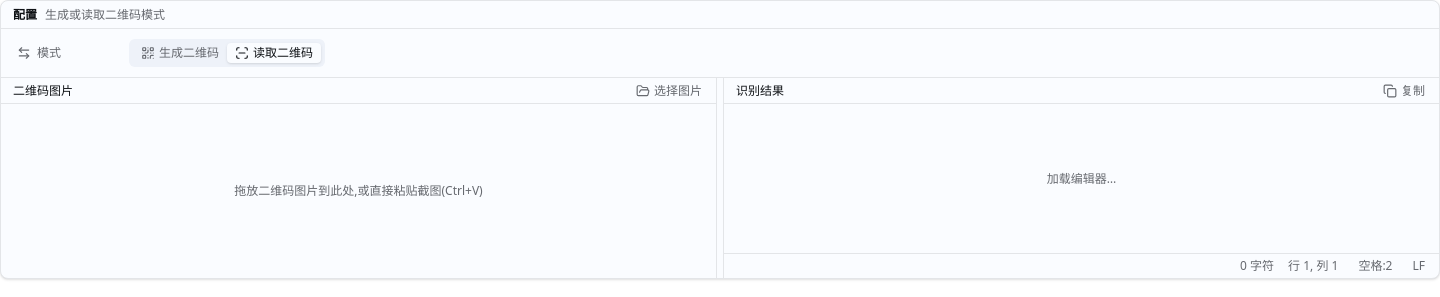
it: QrcodeTool › 空文本显示「未输入」空态,不触发 toDataURL 也不显示失败占位
Press the mouse on the tab with test id "qr-tab-generate" at [180, 53], box top-left (133, 43), bottom-right (227, 63)
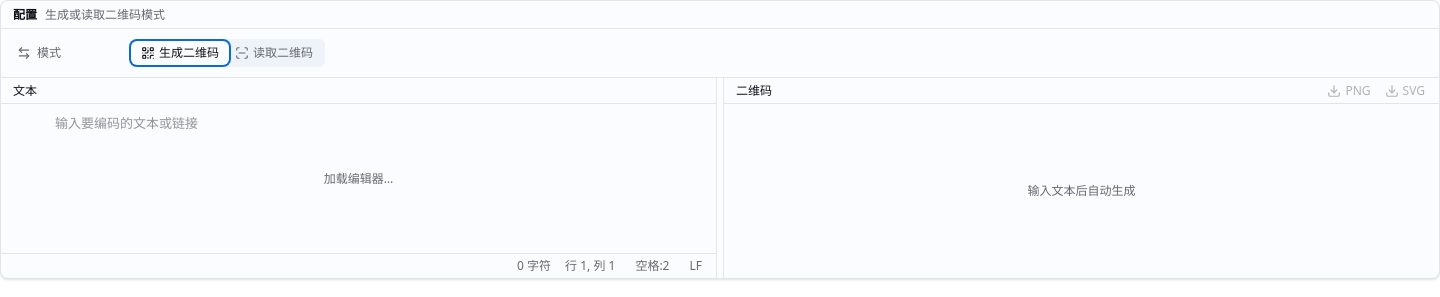
Check: the text "输入文本后自动生成" is shown, box top-left (1028, 183), bottom-right (1136, 199)
